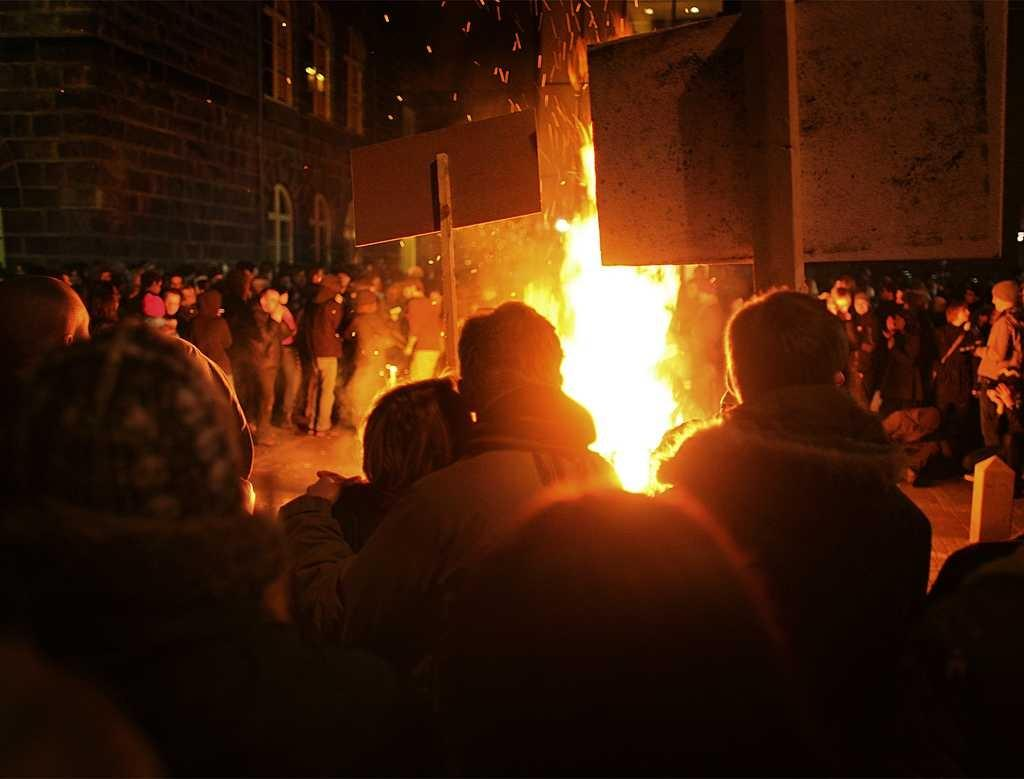fire: (578, 272, 678, 428)
